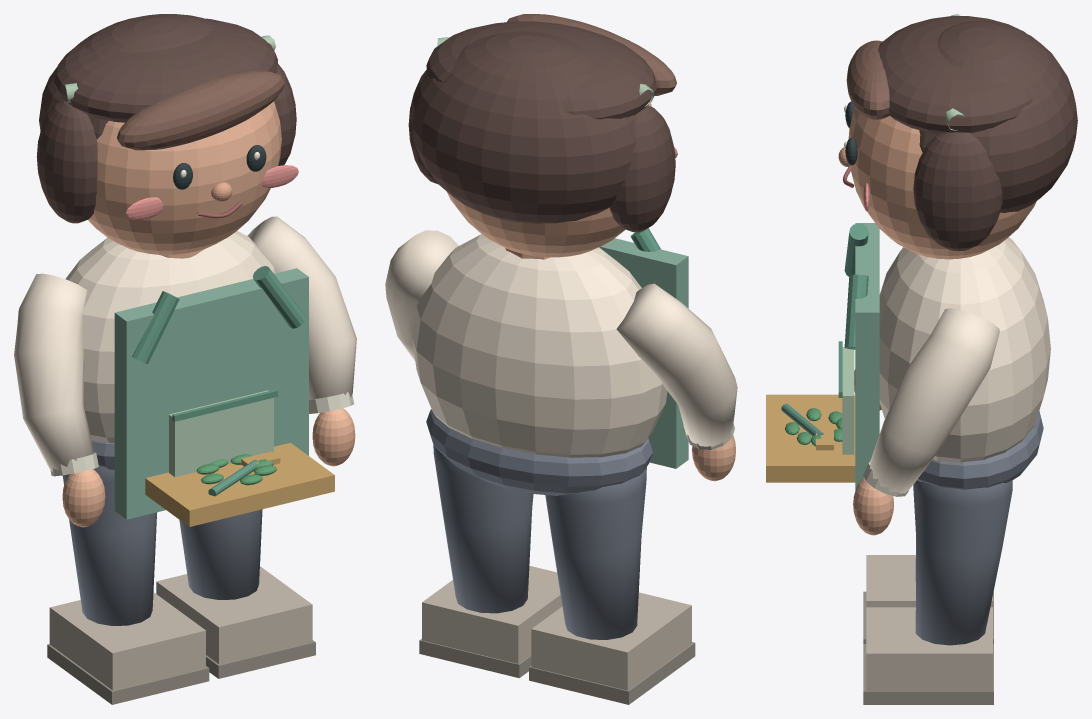
Rendered from park_prep_assistant.glb.
3 views of the same model, side by side, from view 1: azimuth 30°, elevation 25°; view 2: azimuth 150°, elevation 25°; view 3: azimuth 270°, elevation 25° (orthographic). The views are drawn at different scales.
Parts seen in each view (by area): view 1: apron_body, rounded_face, cafe_torso, L_continuous_linen_sleeve, hair_crown, L_low_canvas_shoe, L_single_tapered_pant_leg, R_low_canvas_shoe, R_continuous_linen_sleeve, one_swept_fringe, prep_board, L_bob_lock (+17 smaller); view 2: cafe_torso, hair_back, L_single_tapered_pant_leg, R_single_tapered_pant_leg, L_continuous_linen_sleeve, L_low_canvas_shoe, hair_crown, soft_hip, R_low_canvas_shoe, L_bob_lock, apron_body, rounded_face (+5 smaller); view 3: cafe_torso, hair_back, R_single_tapered_pant_leg, R_continuous_linen_sleeve, hair_crown, rounded_face, R_bob_lock, R_low_canvas_shoe, prep_board, apron_body, soft_hip, L_low_canvas_shoe (+6 smaller).
Part boxes in pixels (x1,y1,x2,y2): apron_body: (114, 268, 308, 519); rounded_face: (88, 101, 281, 255); cafe_torso: (65, 231, 275, 442); L_continuous_linen_sleeve: (14, 273, 94, 471); hair_crown: (54, 18, 277, 122); L_low_canvas_shoe: (49, 592, 205, 690); L_single_tapered_pant_leg: (62, 466, 157, 625); R_low_canvas_shoe: (156, 566, 312, 664); R_continuous_linen_sleeve: (247, 216, 356, 399); one_swept_fringe: (117, 70, 284, 150); prep_board: (145, 442, 334, 526); L_bob_lock: (37, 100, 97, 223); cafe_torso: (412, 234, 667, 457); hair_back: (411, 31, 635, 223); L_single_tapered_pant_leg: (545, 467, 646, 639); R_single_tapered_pant_leg: (433, 445, 533, 613); L_continuous_linen_sleeve: (616, 283, 737, 446); L_low_canvas_shoe: (531, 592, 691, 690); hair_crown: (426, 21, 656, 119); soft_hip: (426, 409, 652, 495); R_low_canvas_shoe: (422, 565, 562, 663); L_bob_lock: (609, 105, 675, 232); apron_body: (599, 238, 688, 468); rounded_face: (447, 103, 651, 257); cafe_torso: (879, 237, 1050, 462); hair_back: (919, 21, 1077, 212); R_single_tapered_pant_leg: (913, 480, 1012, 645); R_continuous_linen_sleeve: (869, 308, 999, 493); hair_crown: (878, 16, 1033, 133); rounded_face: (848, 107, 1036, 259); R_bob_lock: (913, 132, 1002, 251); R_low_canvas_shoe: (866, 607, 992, 690); prep_board: (766, 394, 855, 482); apron_body: (855, 223, 879, 490); soft_hip: (917, 411, 1043, 489); L_low_canvas_shoe: (866, 555, 992, 607).
Bounding box in the file's own units: 0.8908 × 1.6 × 0.7295.
